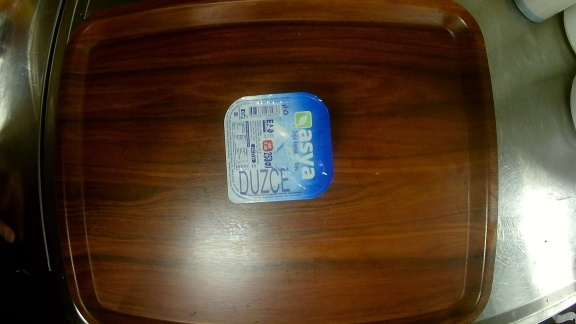kucuksu: (208, 89, 340, 207)
